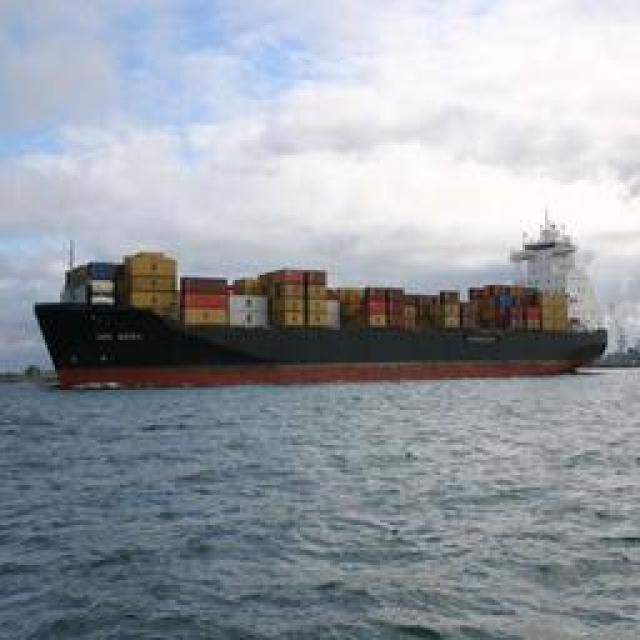ship2: (33, 203, 611, 390)
